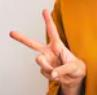front: (9, 8, 87, 92)
